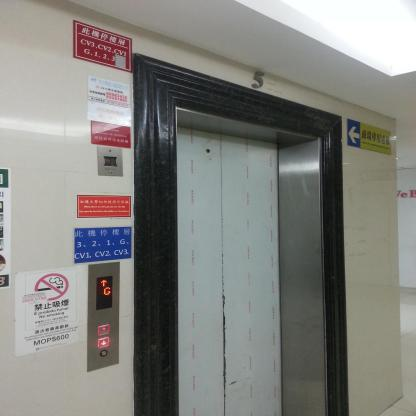down: (97, 336, 109, 348)
keyhole: (99, 349, 108, 357)
led: (96, 276, 112, 310)
up: (97, 324, 110, 336)
